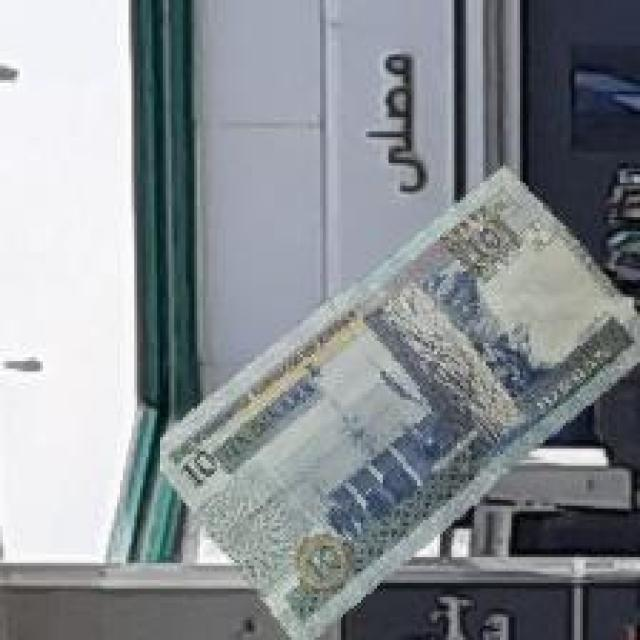10-dinar: (156, 166, 639, 639)
